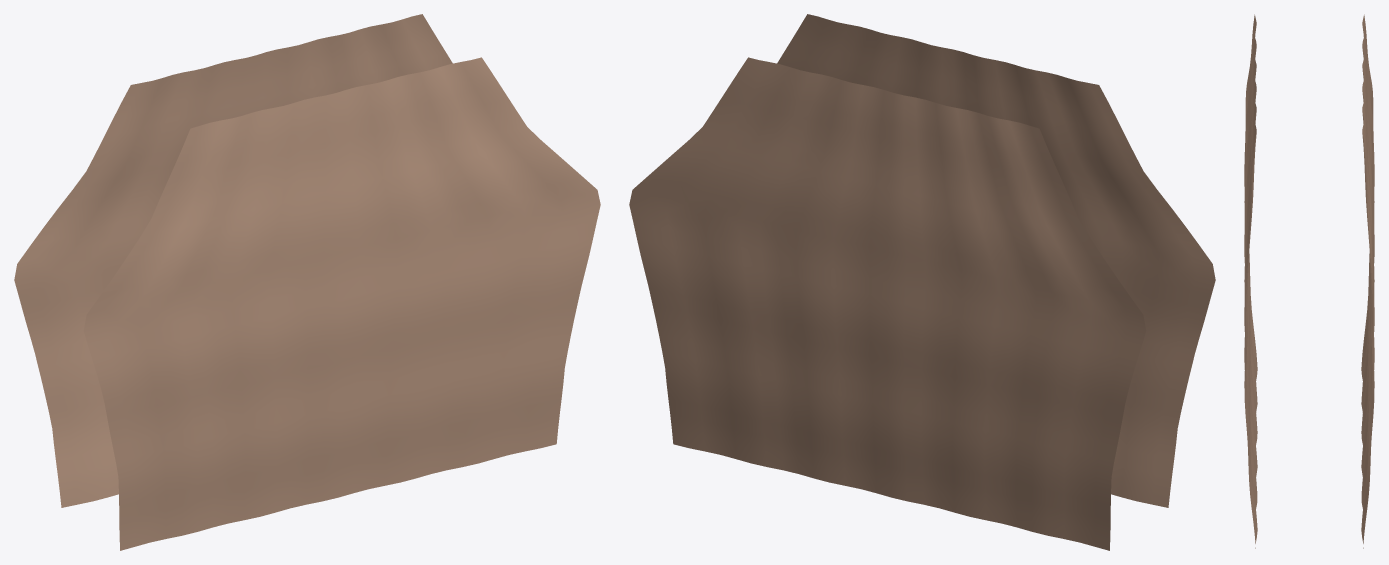
File: clean.glb
The picture shows the model from 3 angles, left to right: view 1: azimuth 30°, elevation 25°; view 2: azimuth 150°, elevation 25°; view 3: azimuth 270°, elevation 25°; orthographic projection. The views are drawn at different scales.
Parts seen in each view (by area): view 1: clean:manual-sleeveless-02.front, clean:manual-sleeveless-02.back; view 2: clean:manual-sleeveless-02.back, clean:manual-sleeveless-02.front; view 3: clean:manual-sleeveless-02.front, clean:manual-sleeveless-02.back.
Part boxes in pixels (x1=…): clean:manual-sleeveless-02.front: x1=83, y1=57, x2=600, y2=550; clean:manual-sleeveless-02.back: x1=14, y1=14, x2=452, y2=507; clean:manual-sleeveless-02.back: x1=629, y1=57, x2=1146, y2=550; clean:manual-sleeveless-02.front: x1=777, y1=14, x2=1215, y2=507; clean:manual-sleeveless-02.front: x1=1244, y1=14, x2=1257, y2=548; clean:manual-sleeveless-02.back: x1=1361, y1=14, x2=1374, y2=548.
Bounding box in the file's own units: 0.9473 × 0.71 × 0.2251.
